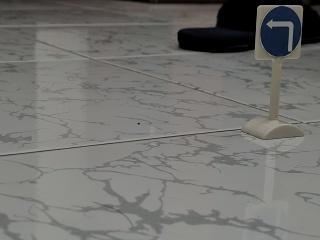left: (255, 3, 305, 59)
